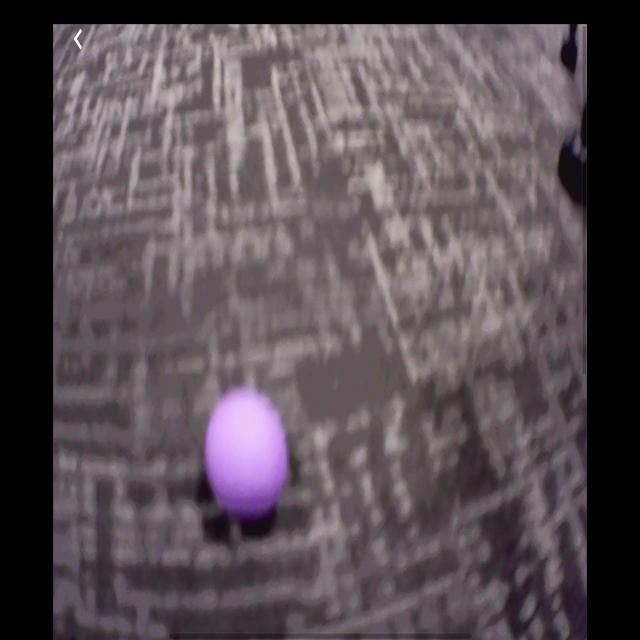ball: (206, 391, 289, 516)
